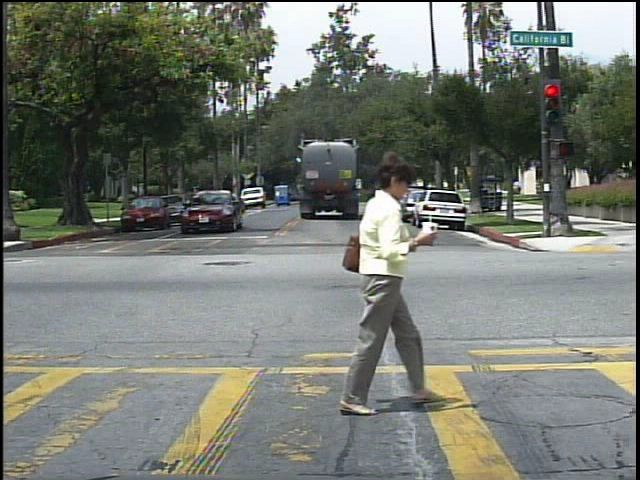person: (324, 150, 444, 422), (515, 180, 528, 199)
